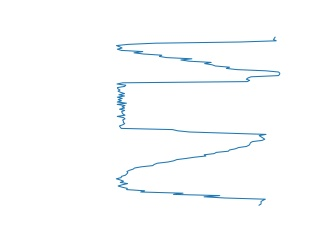distributaryChannelFill: (112, 72, 268, 144)
mouthBar: (112, 35, 284, 77)
underwaterDistributaryChannel: (111, 139, 267, 209)
